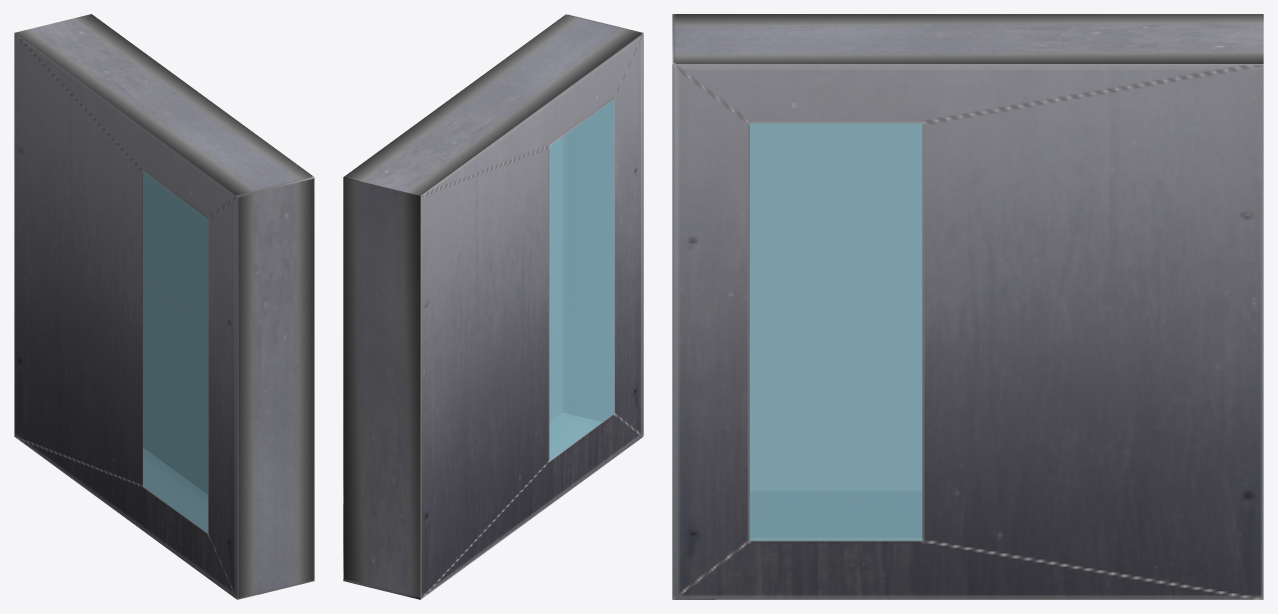
File: Door.fbx
3 renders of one model, left to right at view 1: azimuth 30°, elevation 25°; view 2: azimuth 150°, elevation 25°; view 3: azimuth 270°, elevation 25°, orthographic. The views are drawn at different scales.
Parts seen in each view (by area): view 1: polySurface1; view 2: polySurface1; view 3: polySurface1.
Part boxes in pixels (bbox=[...]): polySurface1: bbox=[14, 14, 314, 599]; polySurface1: bbox=[343, 14, 643, 599]; polySurface1: bbox=[672, 14, 1263, 599].
Bounding box in the file's own units: 0.2 × 1 × 1.
Materials: 2 (1 with a texture image).
